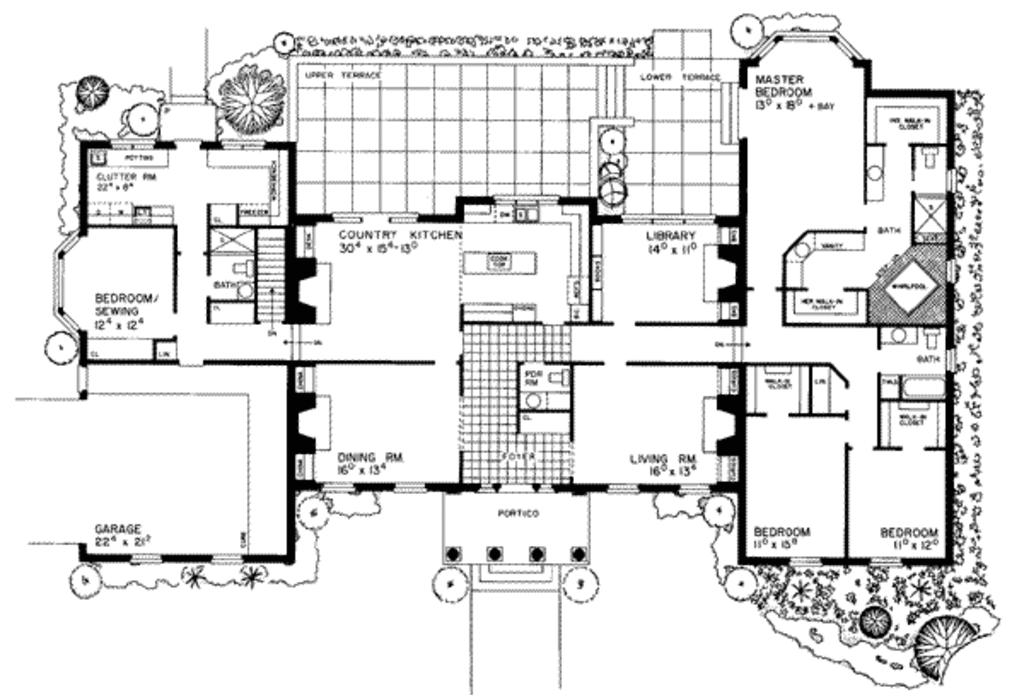kitchen_bar: (455, 245, 541, 279)
large_sink: (922, 325, 948, 355), (229, 256, 256, 282)
small_sink: (864, 146, 888, 199), (523, 392, 573, 417), (877, 323, 919, 344)
stairs: (251, 225, 285, 345)
tub: (894, 372, 945, 403)
windows: (752, 27, 859, 61), (52, 230, 84, 336), (332, 210, 420, 226), (491, 191, 562, 208), (108, 135, 156, 155), (601, 476, 644, 497), (667, 479, 712, 496), (869, 551, 908, 570), (218, 137, 267, 152), (785, 555, 829, 570), (320, 480, 365, 494), (208, 554, 252, 566), (392, 479, 429, 493), (127, 553, 164, 563)
